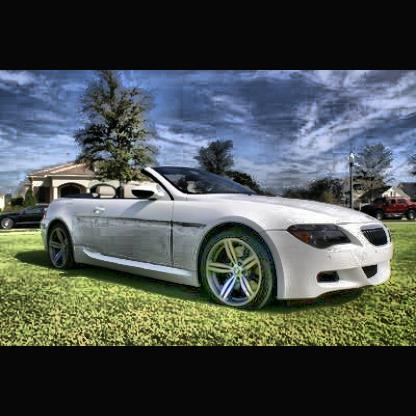BMW M6 Convertible 2010: (41, 165, 395, 313)
